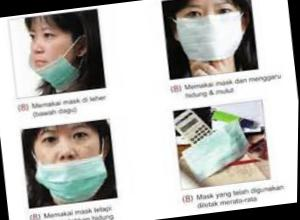OK: (173, 1, 250, 69)
WRONG: (33, 121, 111, 201), (27, 23, 74, 86)
